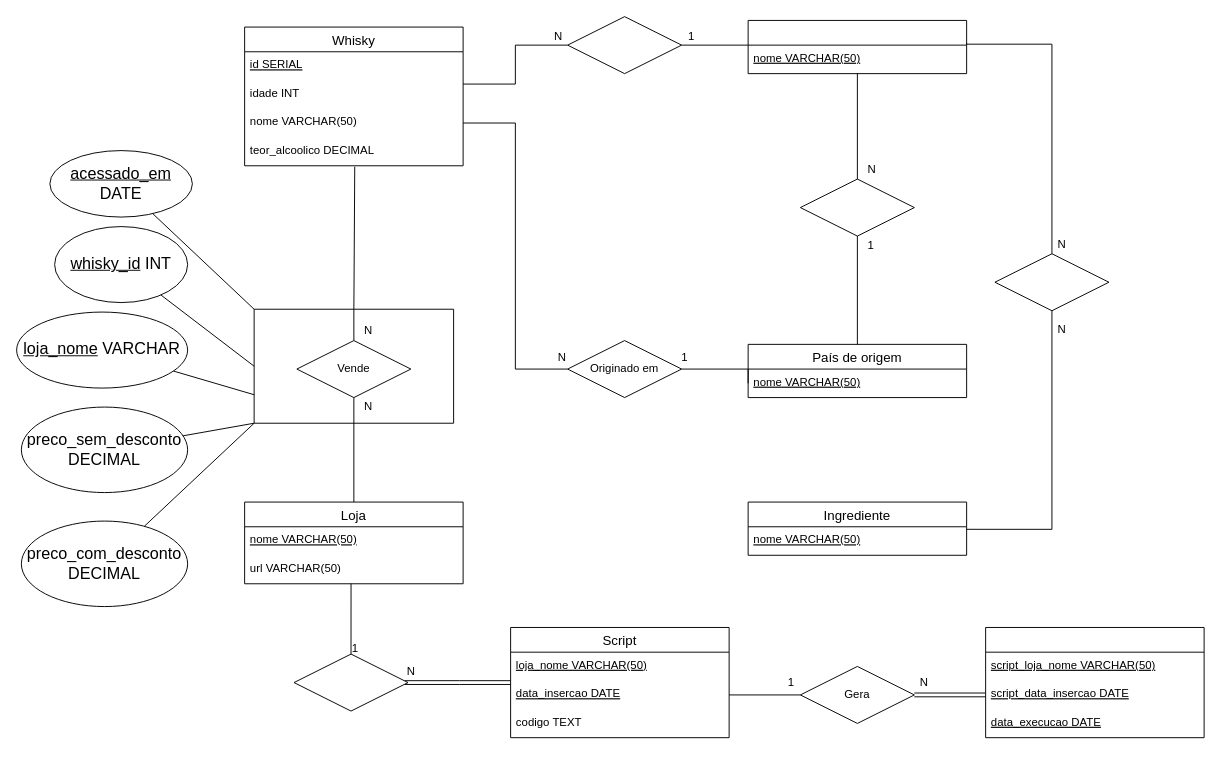
This 1221x757 diagram has some shape labels left out. The box of each missing label's shape, as (x1, y1, x2, y2) in pixels:
Destilado por: (567, 16, 682, 74)
Destilaria: (747, 19, 967, 74)
histórico: (253, 308, 454, 423)
Histórico execução scripts: (985, 627, 1204, 738)
Possui: (293, 653, 408, 711)
Situado em: (799, 178, 914, 236)
Utiliza: (994, 253, 1109, 311)
